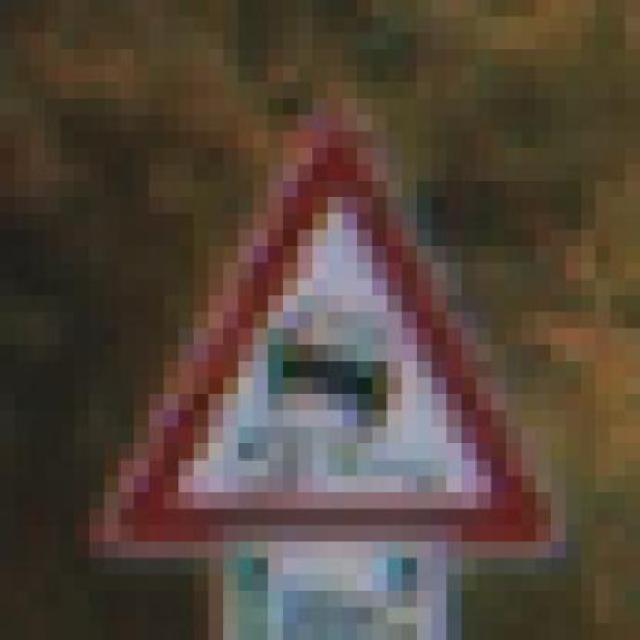Slippery Road Ahead: (104, 66, 581, 592)
